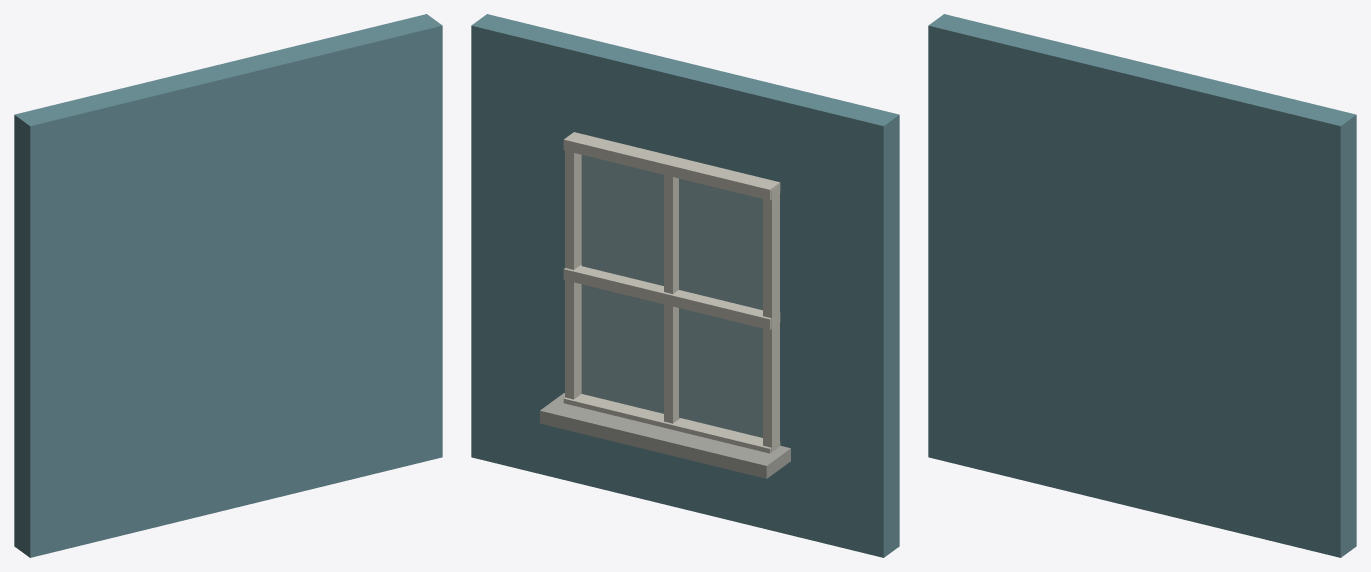
The model's file is window_plaster_blue.glb.
The picture shows the model from 3 angles, left to right: view 1: azimuth 30°, elevation 25°; view 2: azimuth 150°, elevation 25°; view 3: azimuth 330°, elevation 25°; orthographic projection.
Visible parts, largest first — view 1: body; view 2: body; view 3: body.
Boxes of the visible parts, x1=… form: body: x1=14, y1=14, x2=442, y2=557; body: x1=471, y1=14, x2=899, y2=557; body: x1=928, y1=14, x2=1356, y2=557.
Size of the model in its own units: 3 by 3 by 0.505.
